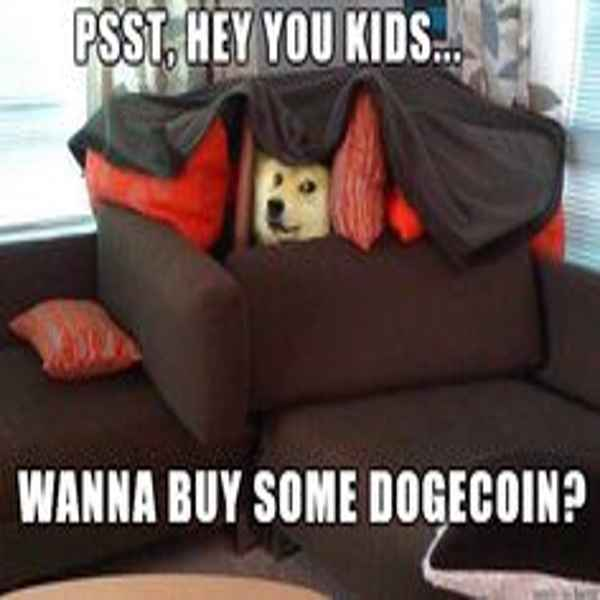doge: (252, 150, 331, 258)
